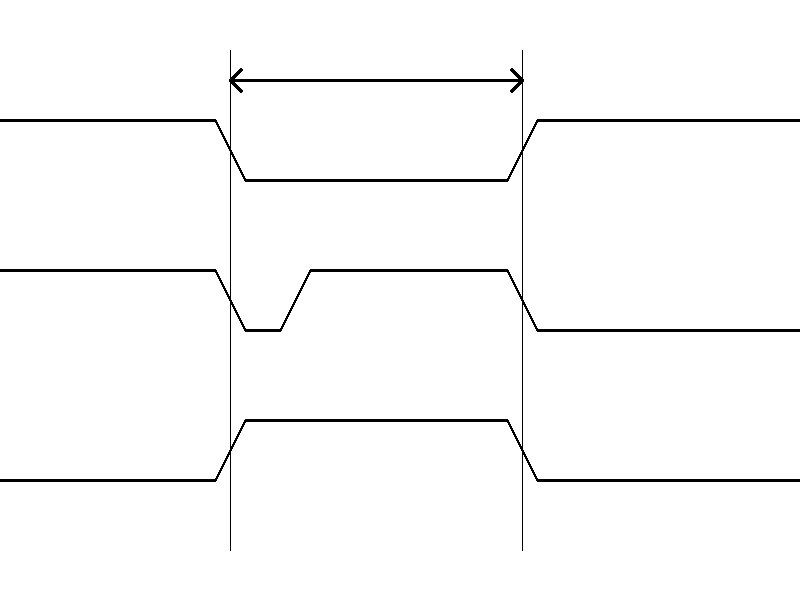double_arrow: (230, 65, 522, 95)
